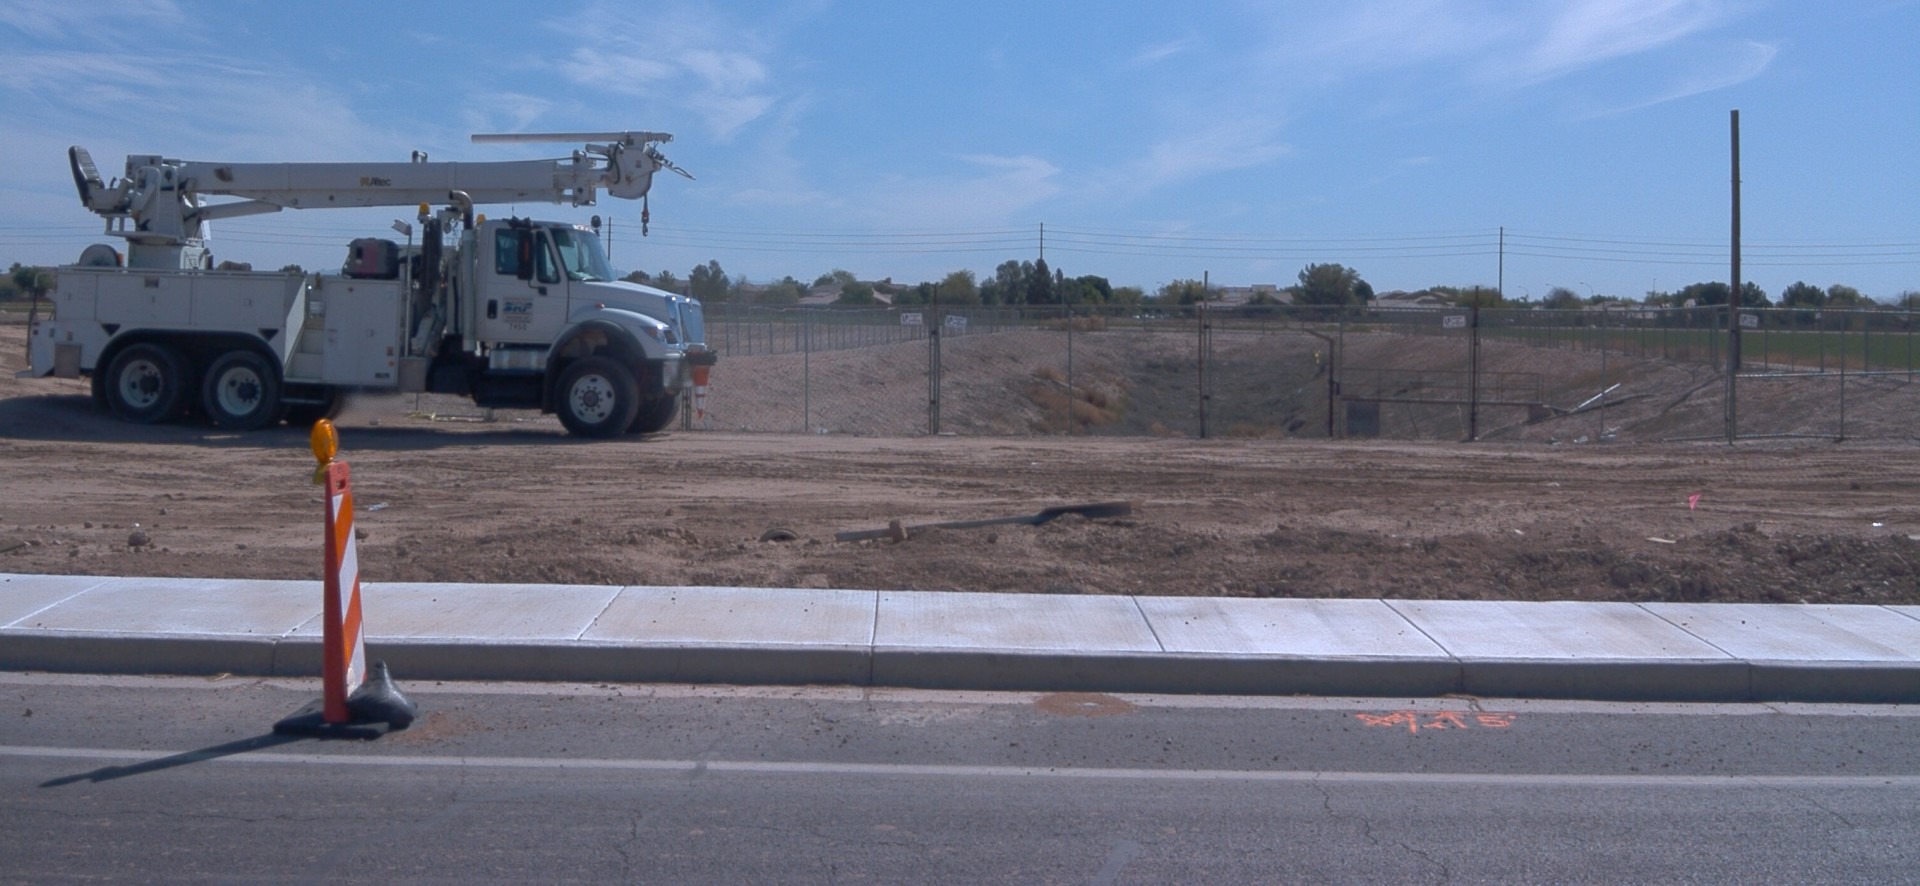TYPE_VEHICLE: (14, 129, 711, 442)
